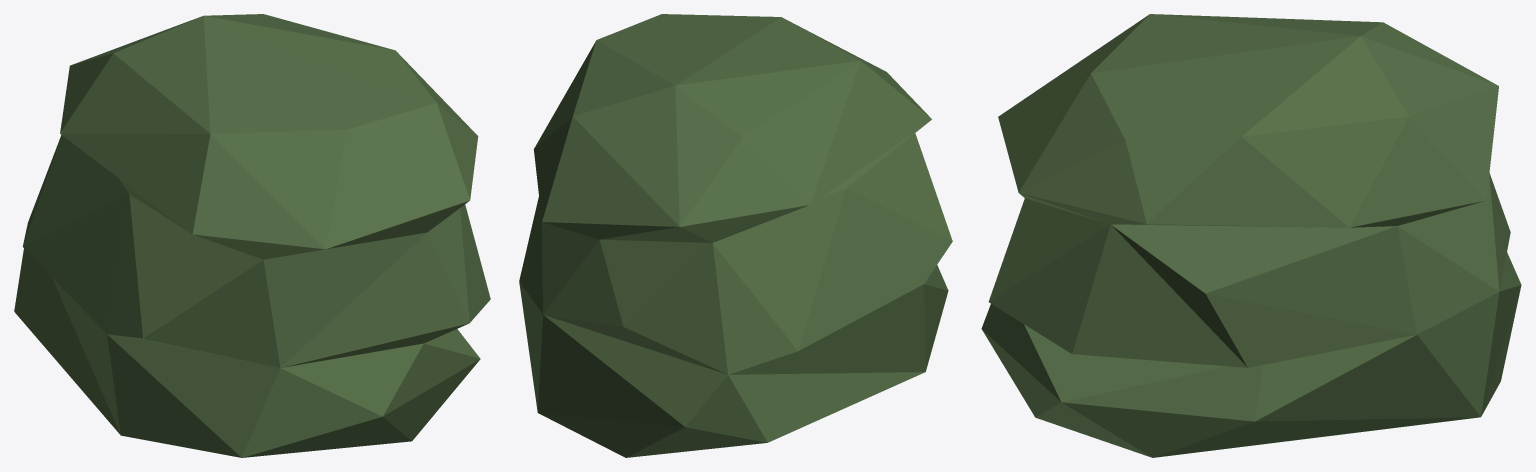
File: Bush_1.lod2.glb
3 renders of one model, left to right at view 1: azimuth 30°, elevation 25°; view 2: azimuth 150°, elevation 25°; view 3: azimuth 270°, elevation 25°, orthographic. The views are drawn at different scales.
Visible parts, largest first — view 1: Bush_1; view 2: Bush_1; view 3: Bush_1.
Part boxes in pixels (box(x1,y1,x2,y2)): Bush_1: box(14, 14, 490, 457); Bush_1: box(519, 14, 952, 457); Bush_1: box(981, 14, 1521, 457).
Bounding box in the file's own units: 1.32 × 1.19 × 1.64.
